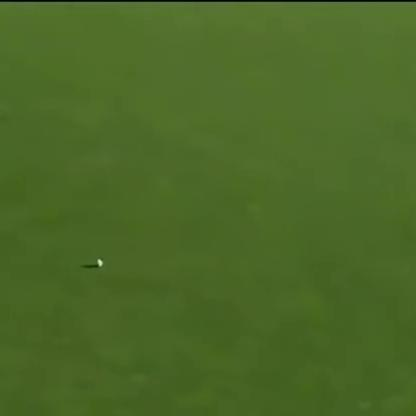golfball: (94, 256, 105, 267)
